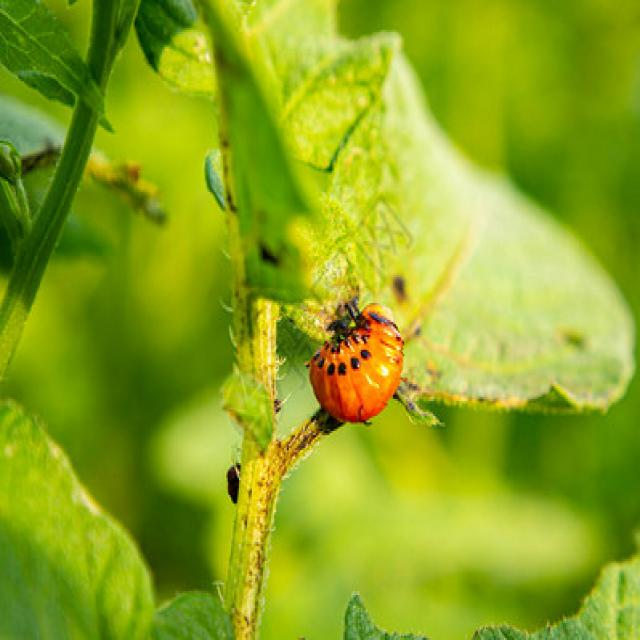ShuCaiHuaBanChong-Larva-: (298, 298, 438, 437)
